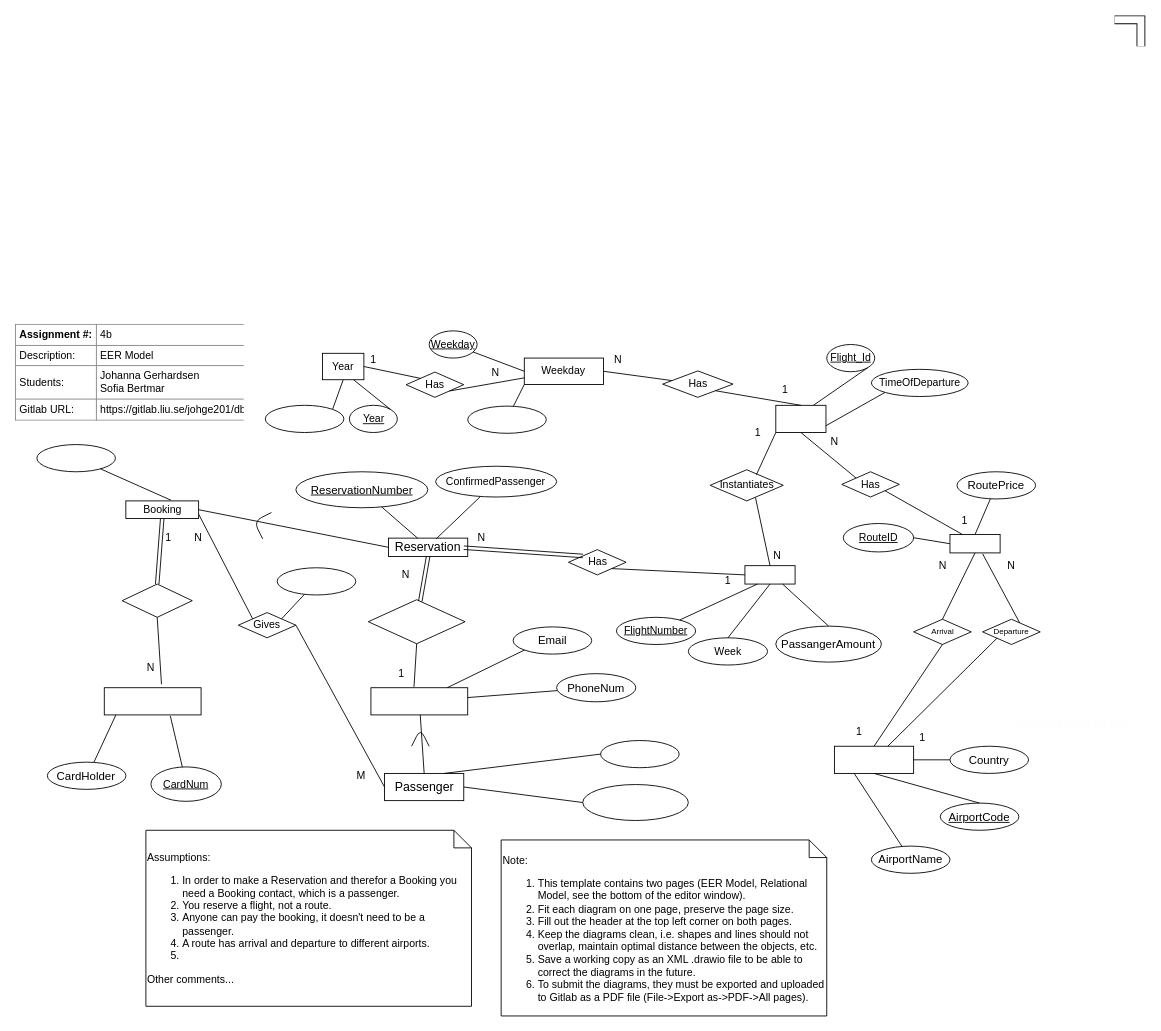
The diagram is 1161 pixels wide and 1031 high, and some of its shapes have lost their labels. The box of each missing label's shape, as (x1, y1, x2, y2) in pixels:
Accommodate: (367, 599, 465, 644)
Airport: (834, 745, 914, 773)
BookingContact: (370, 687, 468, 715)
Demands: (121, 583, 192, 617)
Flight: (744, 565, 795, 584)
FullName: (600, 740, 679, 768)
PassportNumber: (582, 784, 688, 821)
Payment: (103, 687, 201, 715)
ProfitFactor: (264, 404, 344, 433)
Route: (949, 534, 1000, 553)
TicketNumber: (276, 567, 356, 595)
TotalPrice: (36, 444, 115, 472)
WeekdayFactor: (467, 405, 546, 433)
Weekly schedule: (775, 404, 826, 433)
